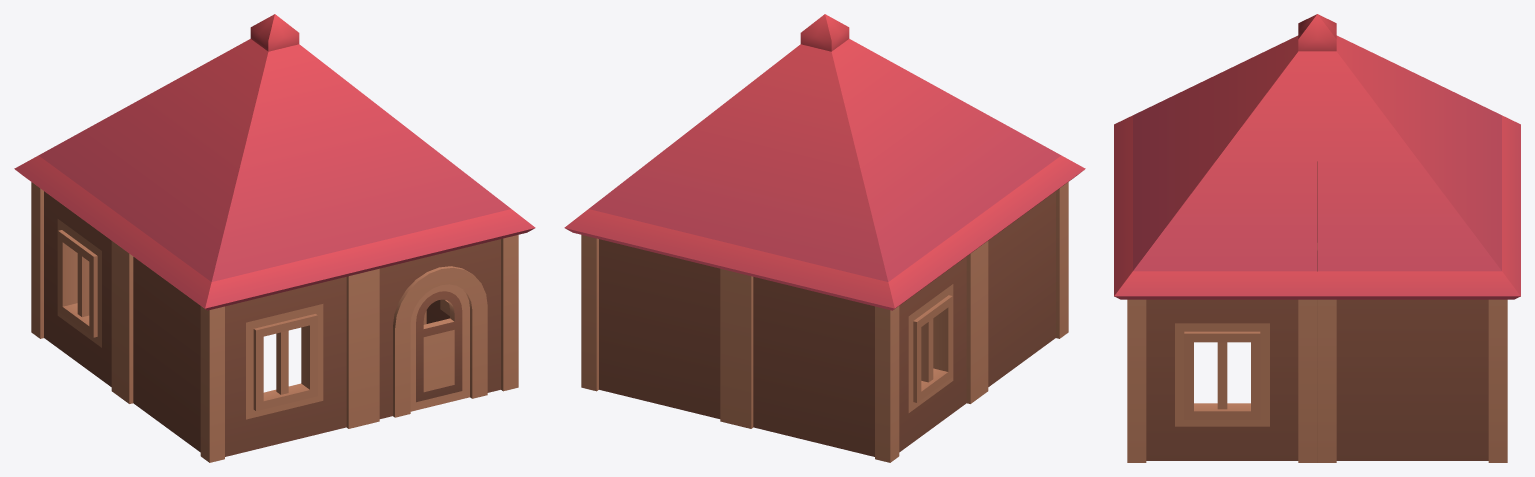
The model's file is cottage.glb.
3 views of the same model, side by side, from view 1: azimuth 30°, elevation 25°; view 2: azimuth 150°, elevation 25°; view 3: azimuth 270°, elevation 25° (orthographic). The views are drawn at different scales.
Visible parts, largest first — view 1: cottage; view 2: cottage; view 3: cottage.
Part boxes in pixels (left/top/right/bottom): cottage: left=14, top=14, right=535, bottom=462; cottage: left=564, top=14, right=1085, bottom=462; cottage: left=1114, top=14, right=1520, bottom=462.
Bounding box in the file's own units: 6.42 × 6.42 × 6.42.
12 materials, 12 textured.
